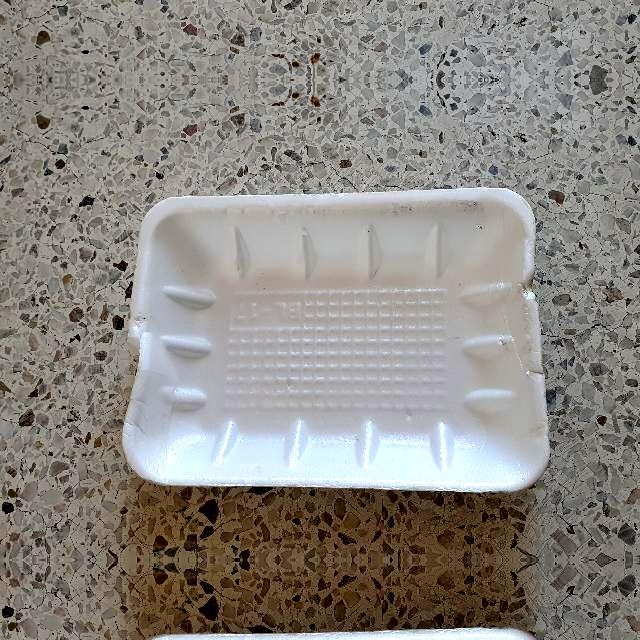Styrofoam: (123, 186, 552, 492), (122, 188, 550, 492)
